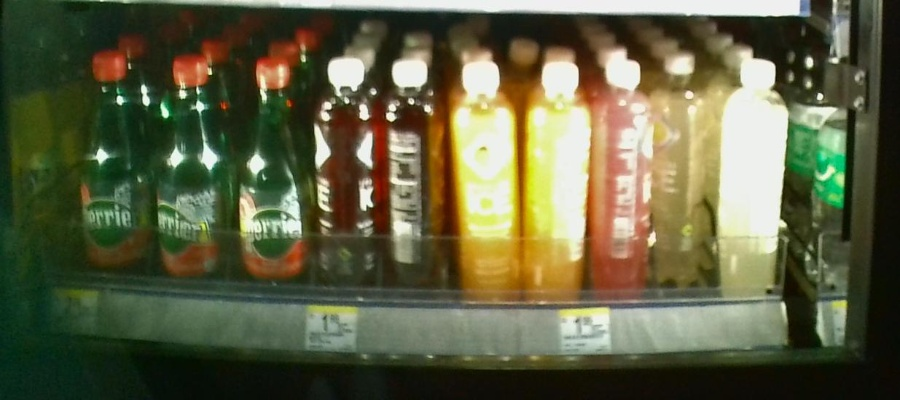bottle: (722, 56, 795, 299), (71, 47, 149, 268), (156, 45, 227, 284), (455, 39, 521, 293), (313, 45, 380, 295), (526, 41, 590, 302), (382, 47, 449, 291), (238, 61, 308, 286), (595, 52, 655, 302), (660, 36, 711, 298)
